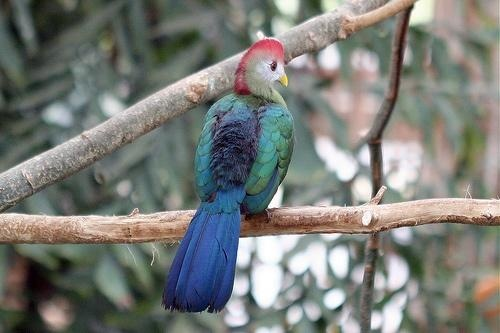bird: (160, 38, 296, 314)
